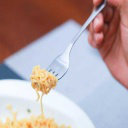Fork: (30, 2, 110, 94)
